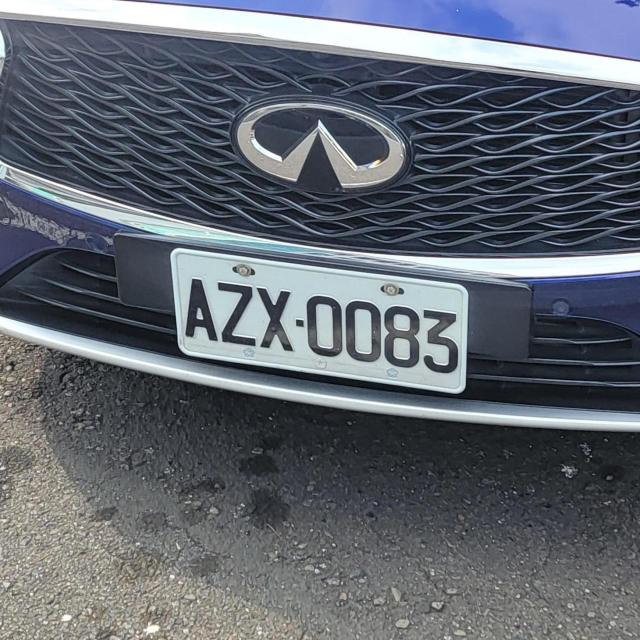W: (167, 249, 469, 387)
